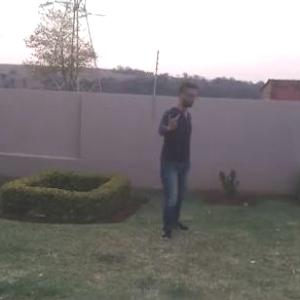takeoff-hand: (162, 108, 187, 133)
